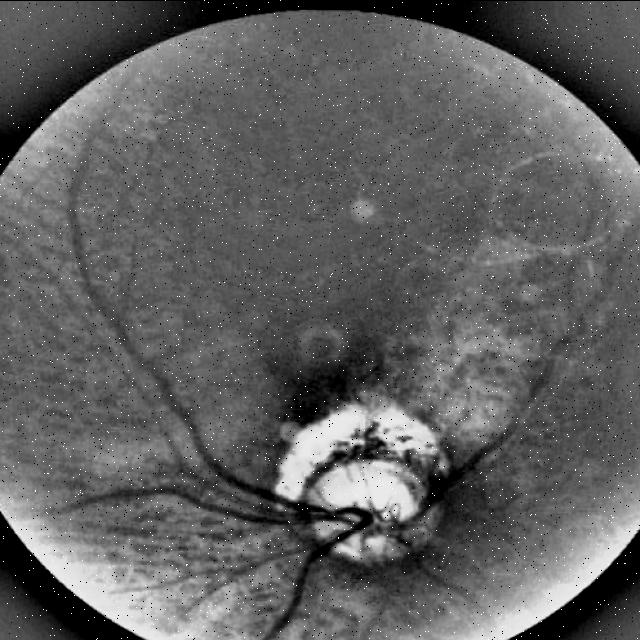Macula: (297, 319, 346, 366)
Nerves: (171, 397, 316, 510), (132, 485, 322, 522), (274, 543, 331, 630)
Optic Disk: (312, 461, 434, 557)
